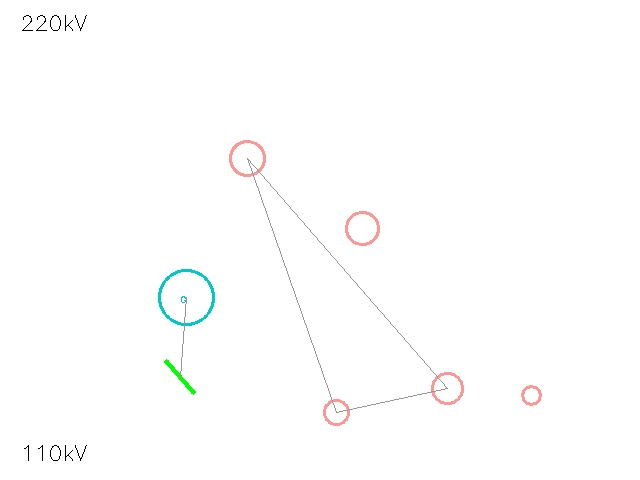busbar: (155, 352, 205, 402)
current_transformer: (330, 196, 394, 260), (311, 387, 361, 437)
fuse: (213, 124, 281, 192)
generator: (159, 270, 213, 324)
surge_arrester: (513, 377, 549, 413)
voltage_transformer: (416, 357, 478, 419)
